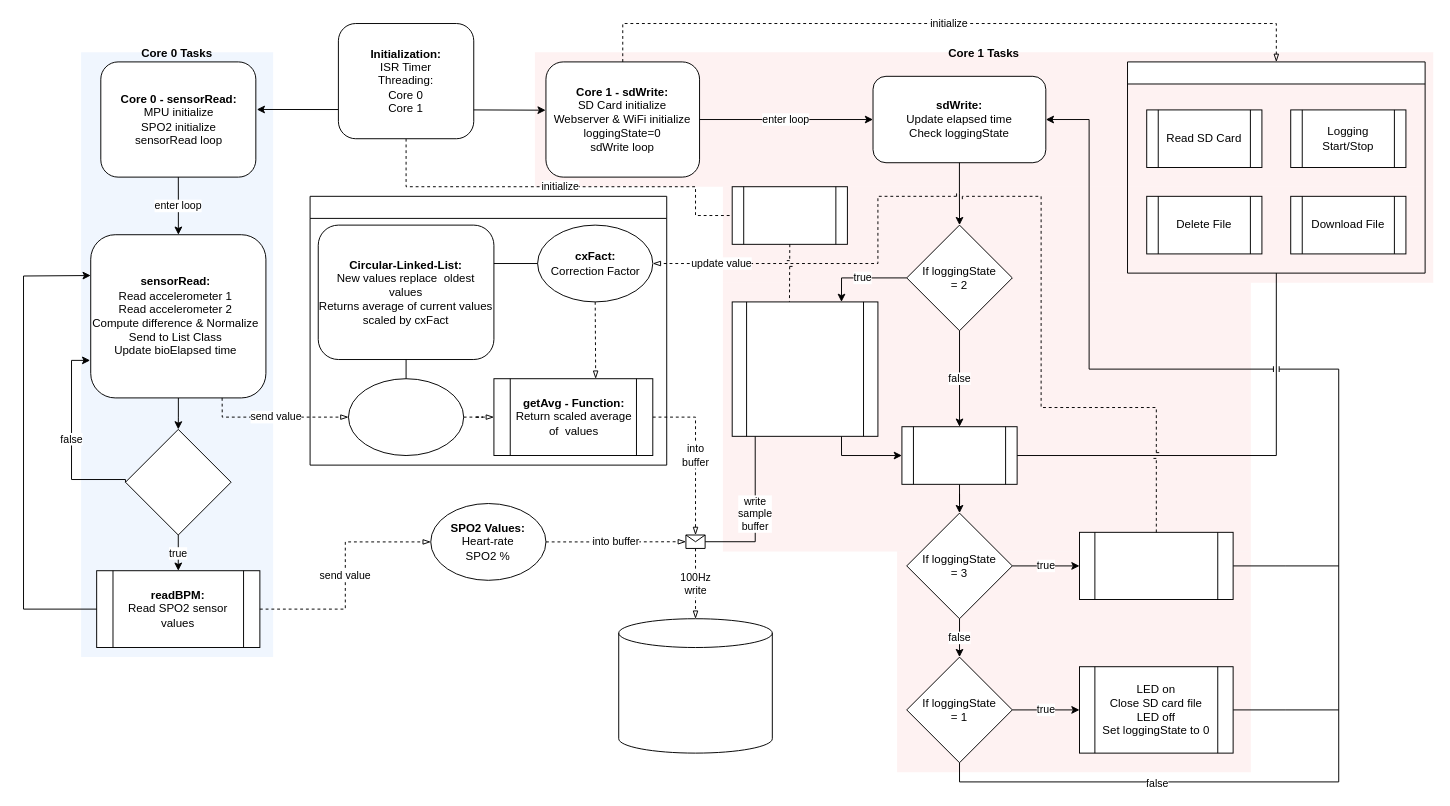
Image size: 1450x806. Some labels were removed from this diagram. Each missing label, with the box of its shape:
Handle webserver client: (901, 426, 1017, 484)
If bioElapsed > 1 second: (125, 428, 231, 535)
ISR Timer: Reset flag at100Hz: (731, 186, 847, 244)
List Class: (309, 195, 667, 465)
Open SD card file Update cxFact Set loggingState to 2: (1079, 531, 1233, 600)
SD Card - CSV: Timestamp Accel Diff Heart-rate SPO2 %: (618, 618, 772, 753)
sdWrite: Log Values to SD Card Sample on ISR flag Flash LED on writing data: (731, 301, 878, 436)
values: 10 Most Recent: (348, 378, 464, 456)
Web Server & Interface: (1127, 61, 1425, 273)
